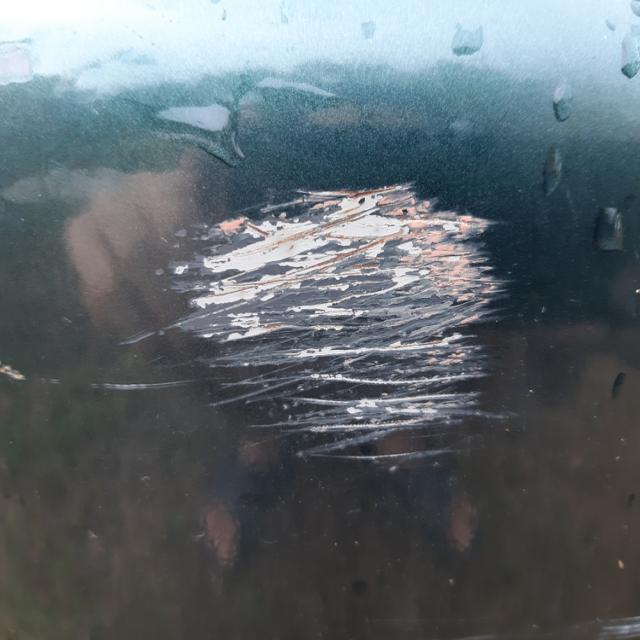scratch: (0, 181, 515, 466)
